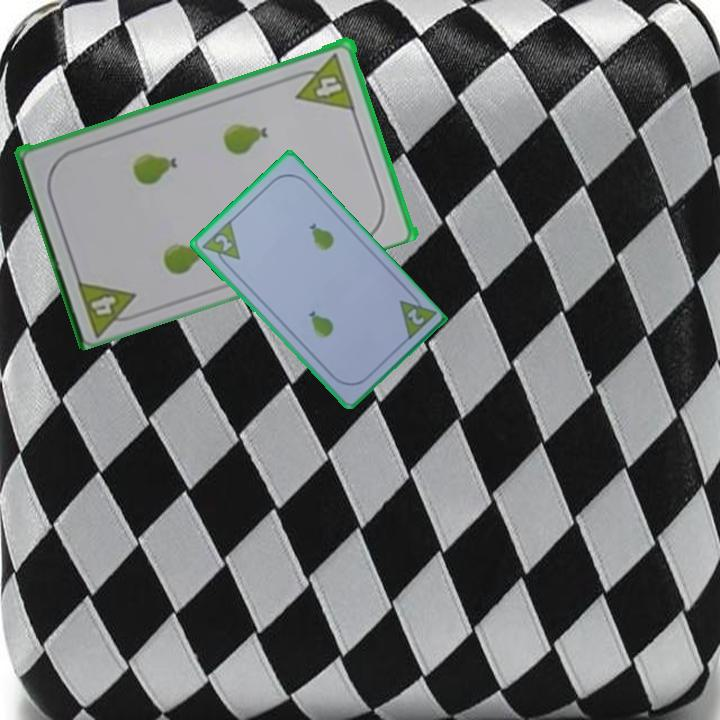2p: (198, 217, 243, 271), (403, 304, 427, 328)
4p: (73, 273, 146, 337), (288, 48, 358, 113)
